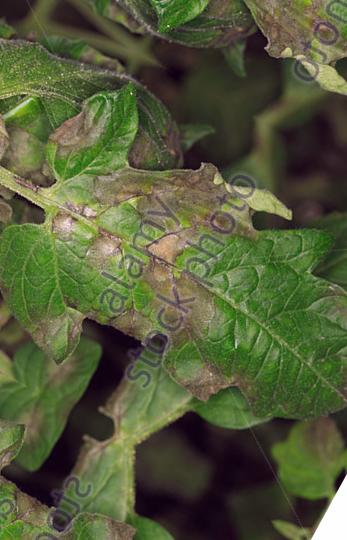Tomato leaf late blight: (0, 51, 347, 504)
